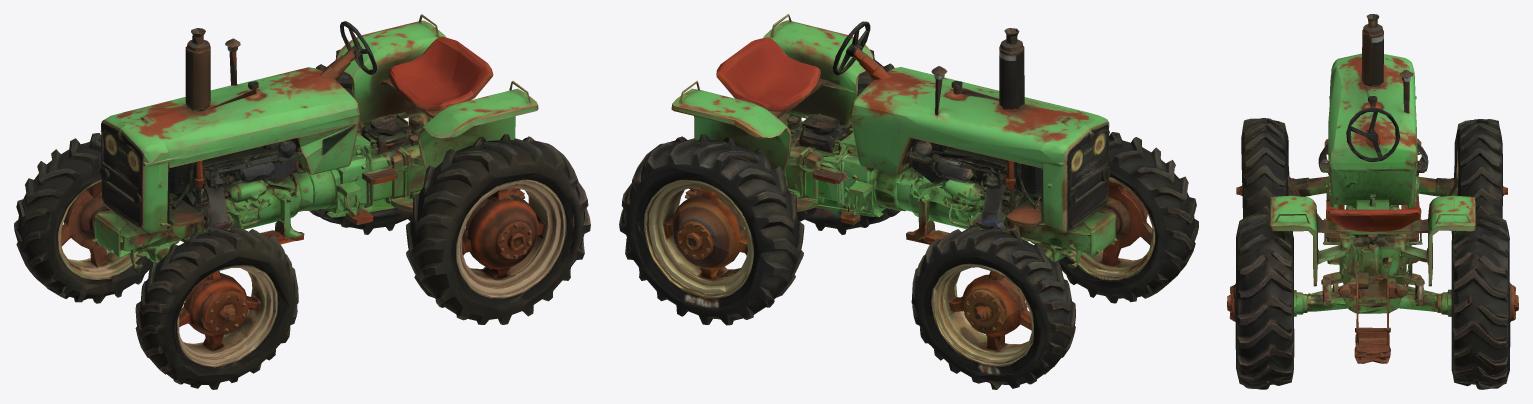
The model's file is country-tractor.glb.
The picture shows the model from 3 angles, left to right: view 1: azimuth 30°, elevation 25°; view 2: azimuth 150°, elevation 25°; view 3: azimuth 270°, elevation 25°; orthographic projection. The views are drawn at different scales.
Visible parts, largest first — view 1: country-tractor-Mesh_0.008; view 2: country-tractor-Mesh_0.008; view 3: country-tractor-Mesh_0.008.
Part boxes in pixels (<box>): country-tractor-Mesh_0.008: <box>14,14,590,389</box>; country-tractor-Mesh_0.008: <box>619,14,1198,389</box>; country-tractor-Mesh_0.008: <box>1227,14,1518,389</box>.
Bounding box in the file's own units: 3.6 × 2.33 × 2.34.
1 material, 1 textured.
